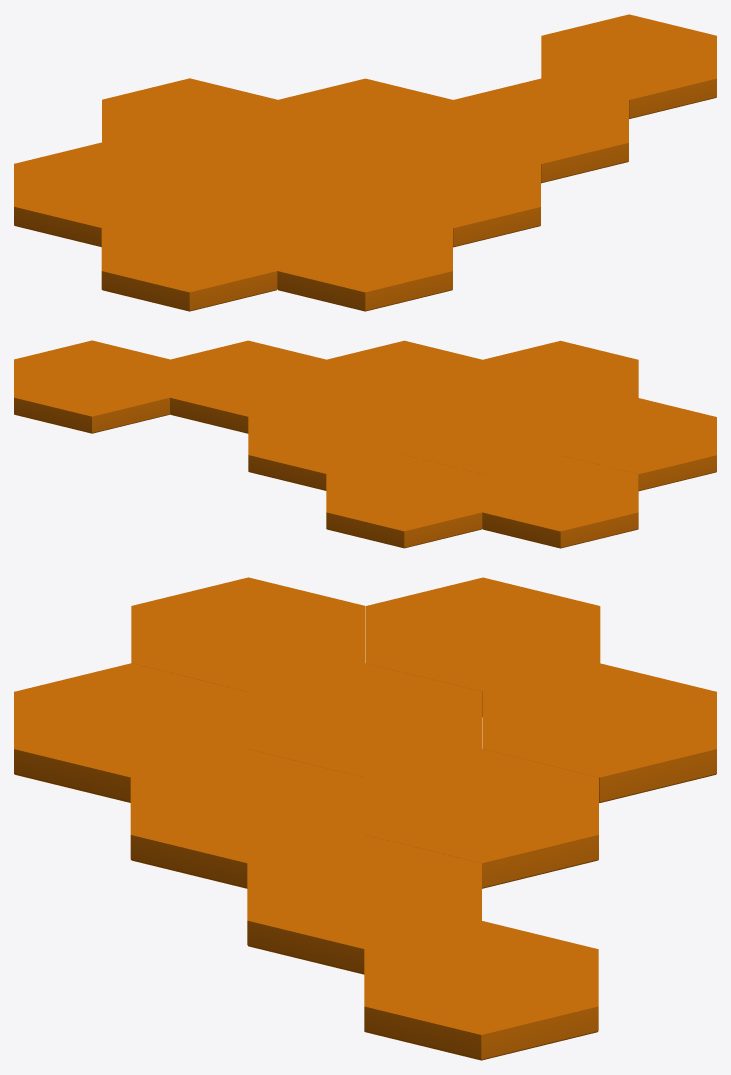
The model's file is mirror_honeycomb.glb.
3 views of the same model, one above another, from view 1: azimuth 30°, elevation 25°; view 2: azimuth 150°, elevation 25°; view 3: azimuth 270°, elevation 25° (orthographic). The views are drawn at different scales.
Parts seen in each view (by area): view 1: Mirror.004_0, Mirror.005_1, Mirror.006_2; view 2: Mirror.004_0, Mirror.005_1, Mirror.006_2; view 3: Mirror.004_0, Mirror.005_1, Mirror.006_2.
Boxes of the visible parts, left/top/right/bottom form: Mirror.004_0: left=277, top=14, right=716, bottom=311; Mirror.005_1: left=101, top=78, right=453, bottom=311; Mirror.006_2: left=14, top=78, right=277, bottom=246; Mirror.004_0: left=14, top=340, right=638, bottom=433; Mirror.005_1: left=248, top=398, right=716, bottom=491; Mirror.006_2: left=326, top=455, right=638, bottom=548; Mirror.004_0: left=14, top=663, right=598, bottom=1060; Mirror.005_1: left=131, top=577, right=598, bottom=888; Mirror.006_2: left=366, top=577, right=716, bottom=802.
Size of the model in its own units: 1.47 by 0.04 by 0.9558.
